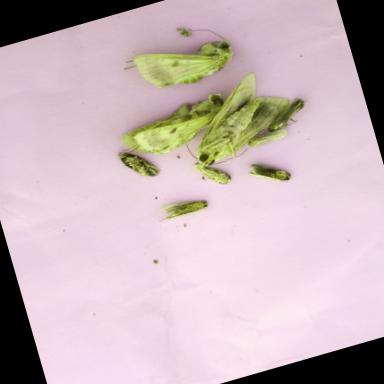abw: (182, 63, 314, 168), (110, 20, 240, 104), (116, 86, 229, 162)
pbw: (116, 138, 166, 188), (160, 194, 212, 226), (193, 153, 233, 193), (250, 158, 290, 190)
